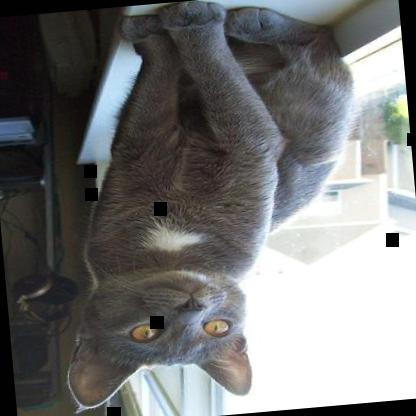cat: (34, 0, 378, 413)
